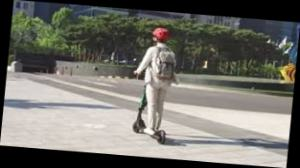helmet: (127, 25, 184, 149)
